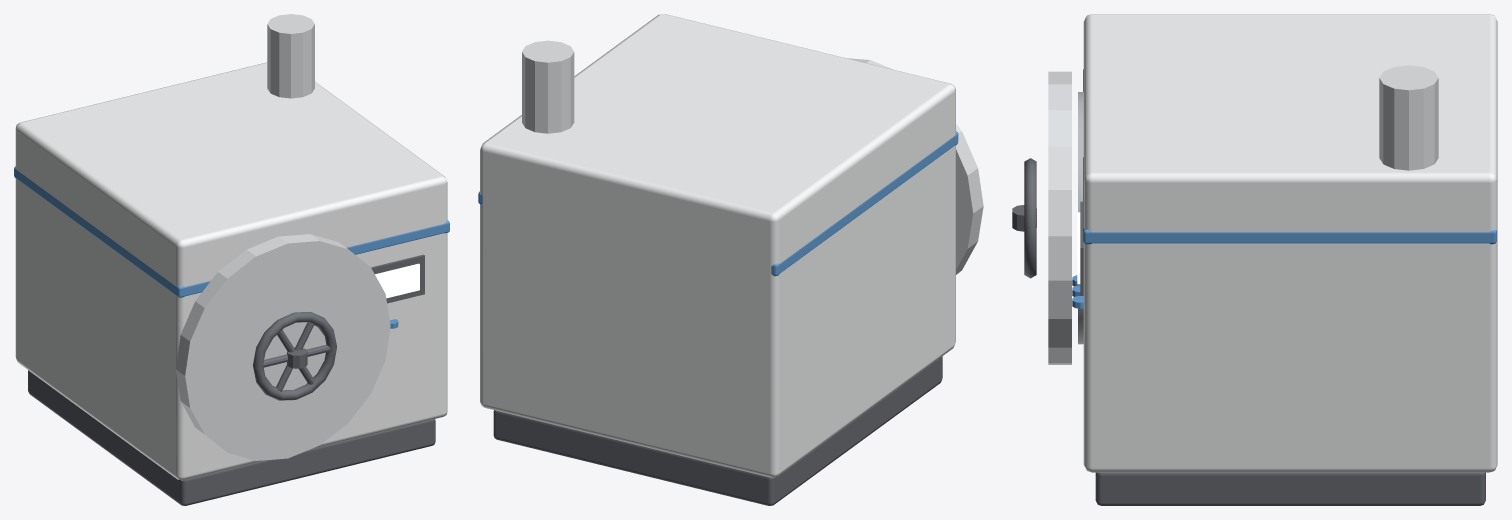
The model's file is autoclave.glb.
The picture shows the model from 3 angles, left to right: view 1: azimuth 30°, elevation 25°; view 2: azimuth 150°, elevation 25°; view 3: azimuth 270°, elevation 25°; orthographic projection. The views are drawn at different scales.
Visible parts, largest first — view 1: autoclave, door-autoclave/steel, door-autoclave/dark; view 2: autoclave, door-autoclave/steel; view 3: autoclave, door-autoclave/steel, door-autoclave/dark.
Boxes of the visible parts, box(x1,y1,x2,y2) form: autoclave: box(14, 14, 449, 505); door-autoclave/steel: box(175, 234, 390, 460); door-autoclave/dark: box(253, 311, 336, 400); autoclave: box(478, 14, 958, 505); door-autoclave/steel: box(846, 58, 983, 274); autoclave: box(1072, 14, 1497, 505); door-autoclave/steel: box(1048, 71, 1071, 364); door-autoclave/dark: box(1012, 158, 1036, 278).
Bounding box in the file's own units: 0.681 × 0.78 × 0.8209.
